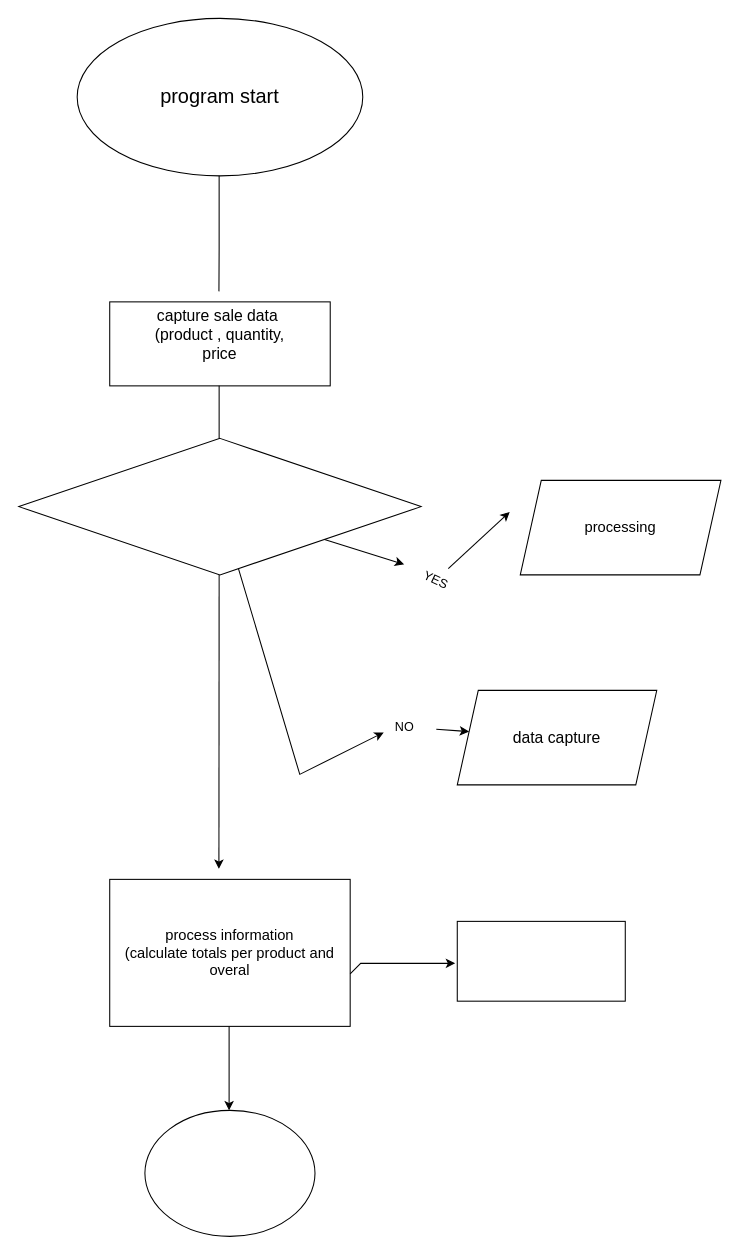
The diagram is 739 pixels wide and 1255 high, and some of its shapes have lost their labels. Each missing label, with the centre of its shape:
"DO you want to record another sale?" belongs at point (219, 506).
"Generate summary" belongs at point (540, 960).
"Program end" belongs at point (229, 1172).
